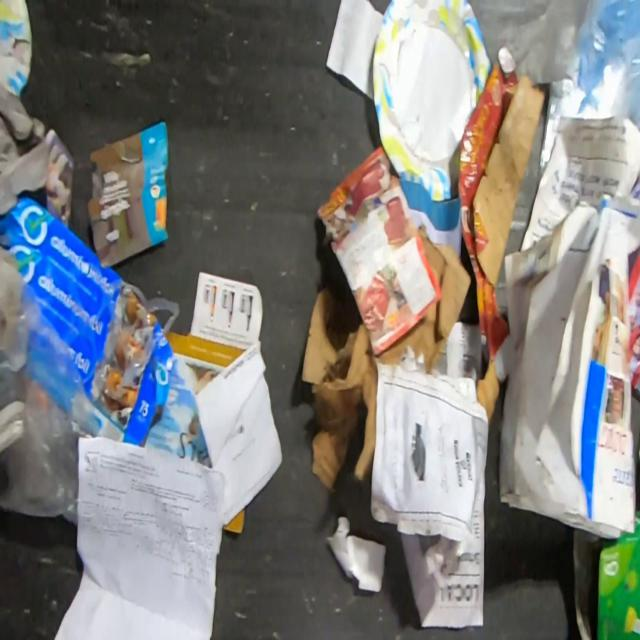cardboard: (300, 224, 472, 496), (0, 196, 178, 447), (458, 46, 547, 426), (370, 0, 494, 202), (571, 508, 640, 640), (140, 361, 220, 468), (0, 0, 34, 99)
soft_plastic: (0, 244, 101, 529), (537, 0, 640, 170), (466, 0, 589, 85), (120, 282, 181, 389)
